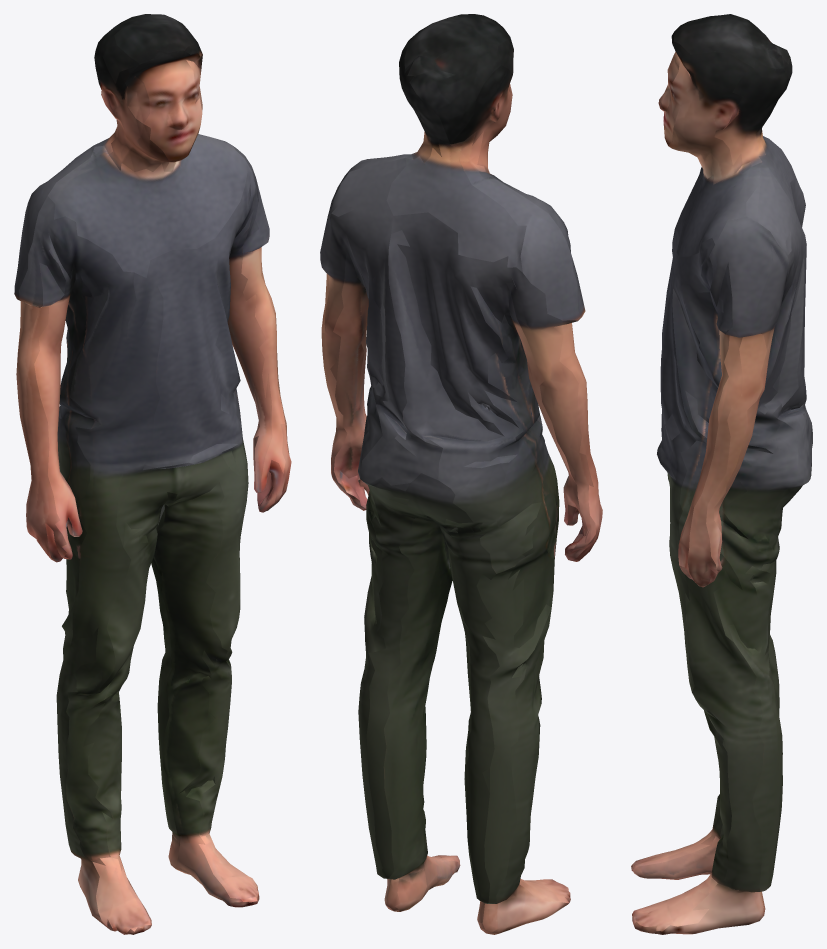
Rendered from ghost_float.glb.
3 views of the same model, side by side, from view 1: azimuth 30°, elevation 25°; view 2: azimuth 150°, elevation 25°; view 3: azimuth 270°, elevation 25° (orthographic). The views are drawn at different scales.
Visible parts, largest first — view 1: geometry_0; view 2: geometry_0; view 3: geometry_0.
Boxes of the visible parts, left/top/right/bottom form: geometry_0: left=14, top=14, right=291, bottom=934; geometry_0: left=320, top=14, right=602, bottom=934; geometry_0: left=631, top=14, right=812, bottom=934.
Bounding box in the file's own units: 0.5464 × 1.75 × 0.3282.
Materials: 1 (1 with a texture image).
